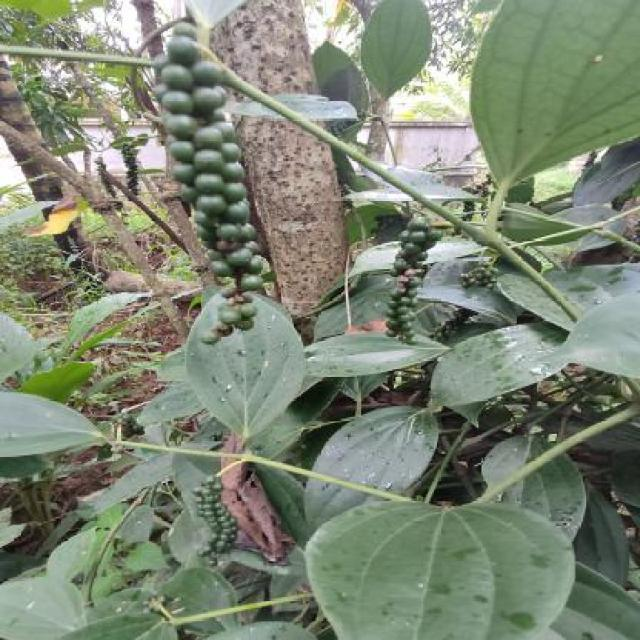UNRIPE: (159, 23, 265, 345), (383, 217, 432, 340), (192, 476, 240, 567), (430, 308, 479, 342), (460, 262, 500, 289), (120, 146, 140, 194)
